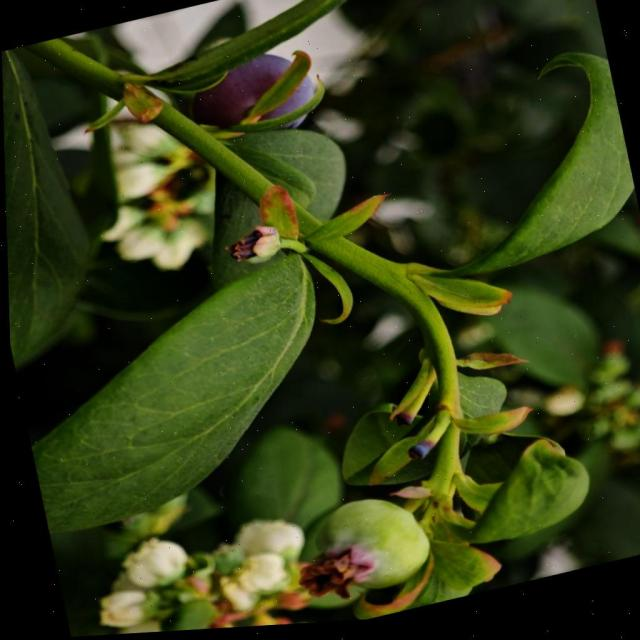Semi-RipeBlueBerry: (183, 42, 326, 152)
UnripeBlueBerry: (302, 489, 434, 609)
